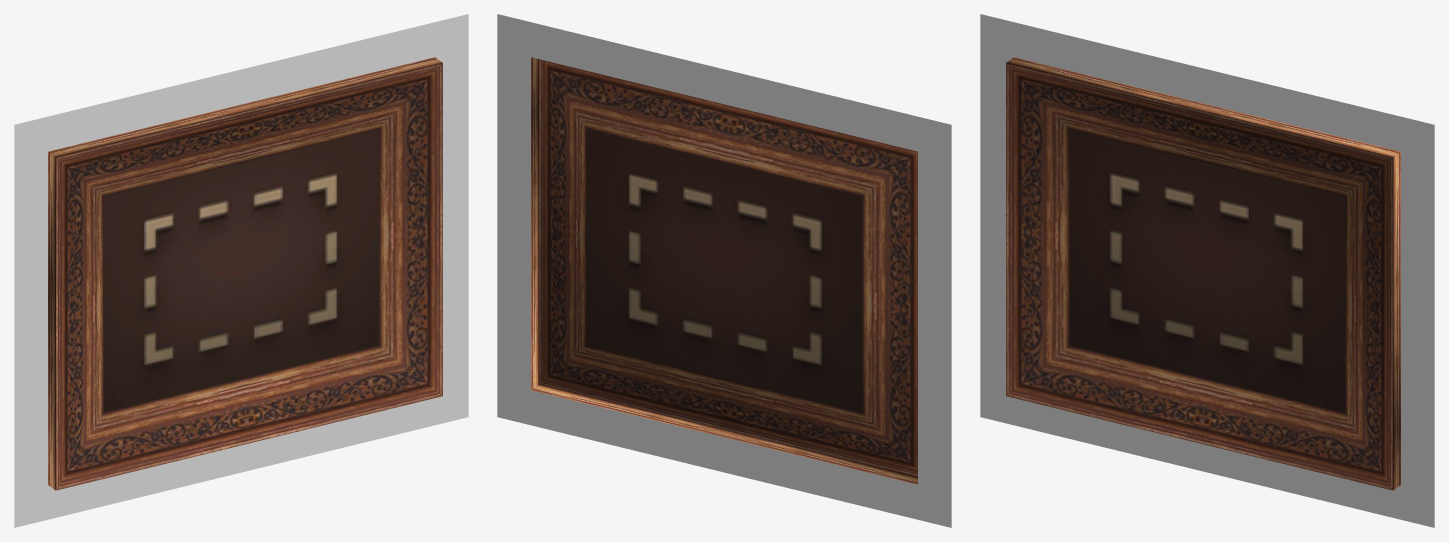
File: Frame_12_Small.dae
3 views of the same model, side by side, from view 1: azimuth 30°, elevation 25°; view 2: azimuth 150°, elevation 25°; view 3: azimuth 330°, elevation 25° (orthographic).
Visible parts, largest first — view 1: Frame_12_Small (×3); view 2: Frame_12_Small (×3); view 3: Frame_12_Small (×3).
Part boxes in pixels (x1=…): Frame_12_Small (×3): x1=14, y1=14, x2=468, y2=527; Frame_12_Small (×3): x1=497, y1=14, x2=951, y2=527; Frame_12_Small (×3): x1=980, y1=14, x2=1434, y2=527.
Size of the model in its own units: 272 by 231 by 8.27.
Materials: 3 (3 with a texture image).
